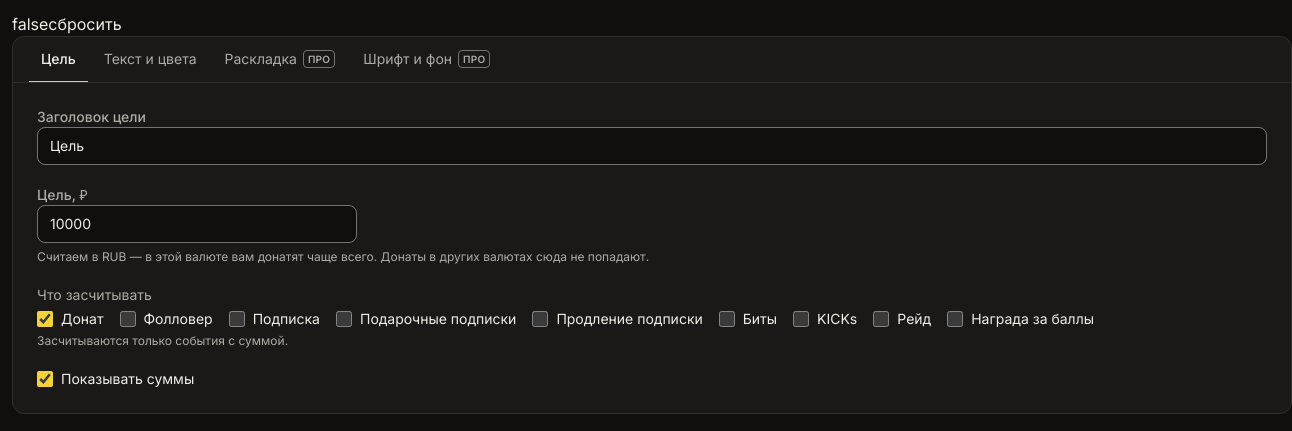
несохранённые изменения › сумма цели: набрана заново та же
Step 1. Replace the text in the field labelled "Цель, ₽" with "777" → [197, 224], box x1=37 y1=205 x2=357 y2=243
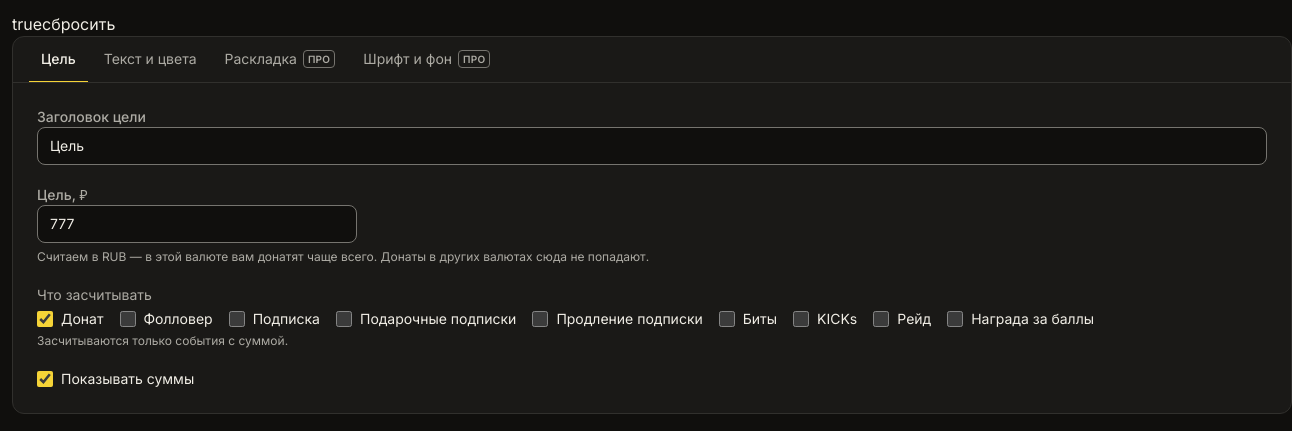
Now the text with test id "dirty" reads "true", box x1=12 y1=14 x2=42 y2=34
Step 2. Replace the text in the field labelled "Цель, ₽" with "10000" → [197, 224], box x1=37 y1=205 x2=357 y2=243
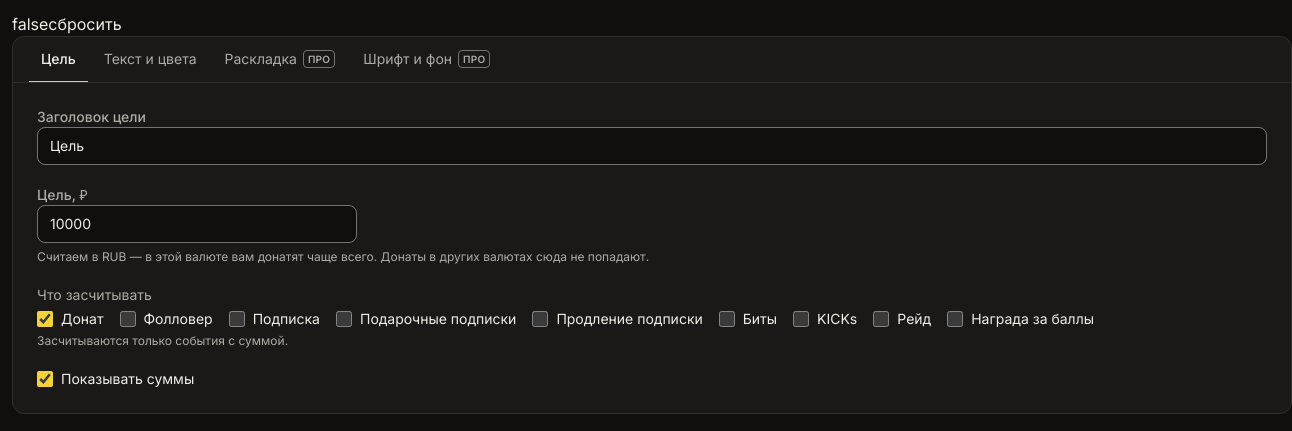
Now the text with test id "dirty" reads "false", box x1=12 y1=14 x2=48 y2=34
